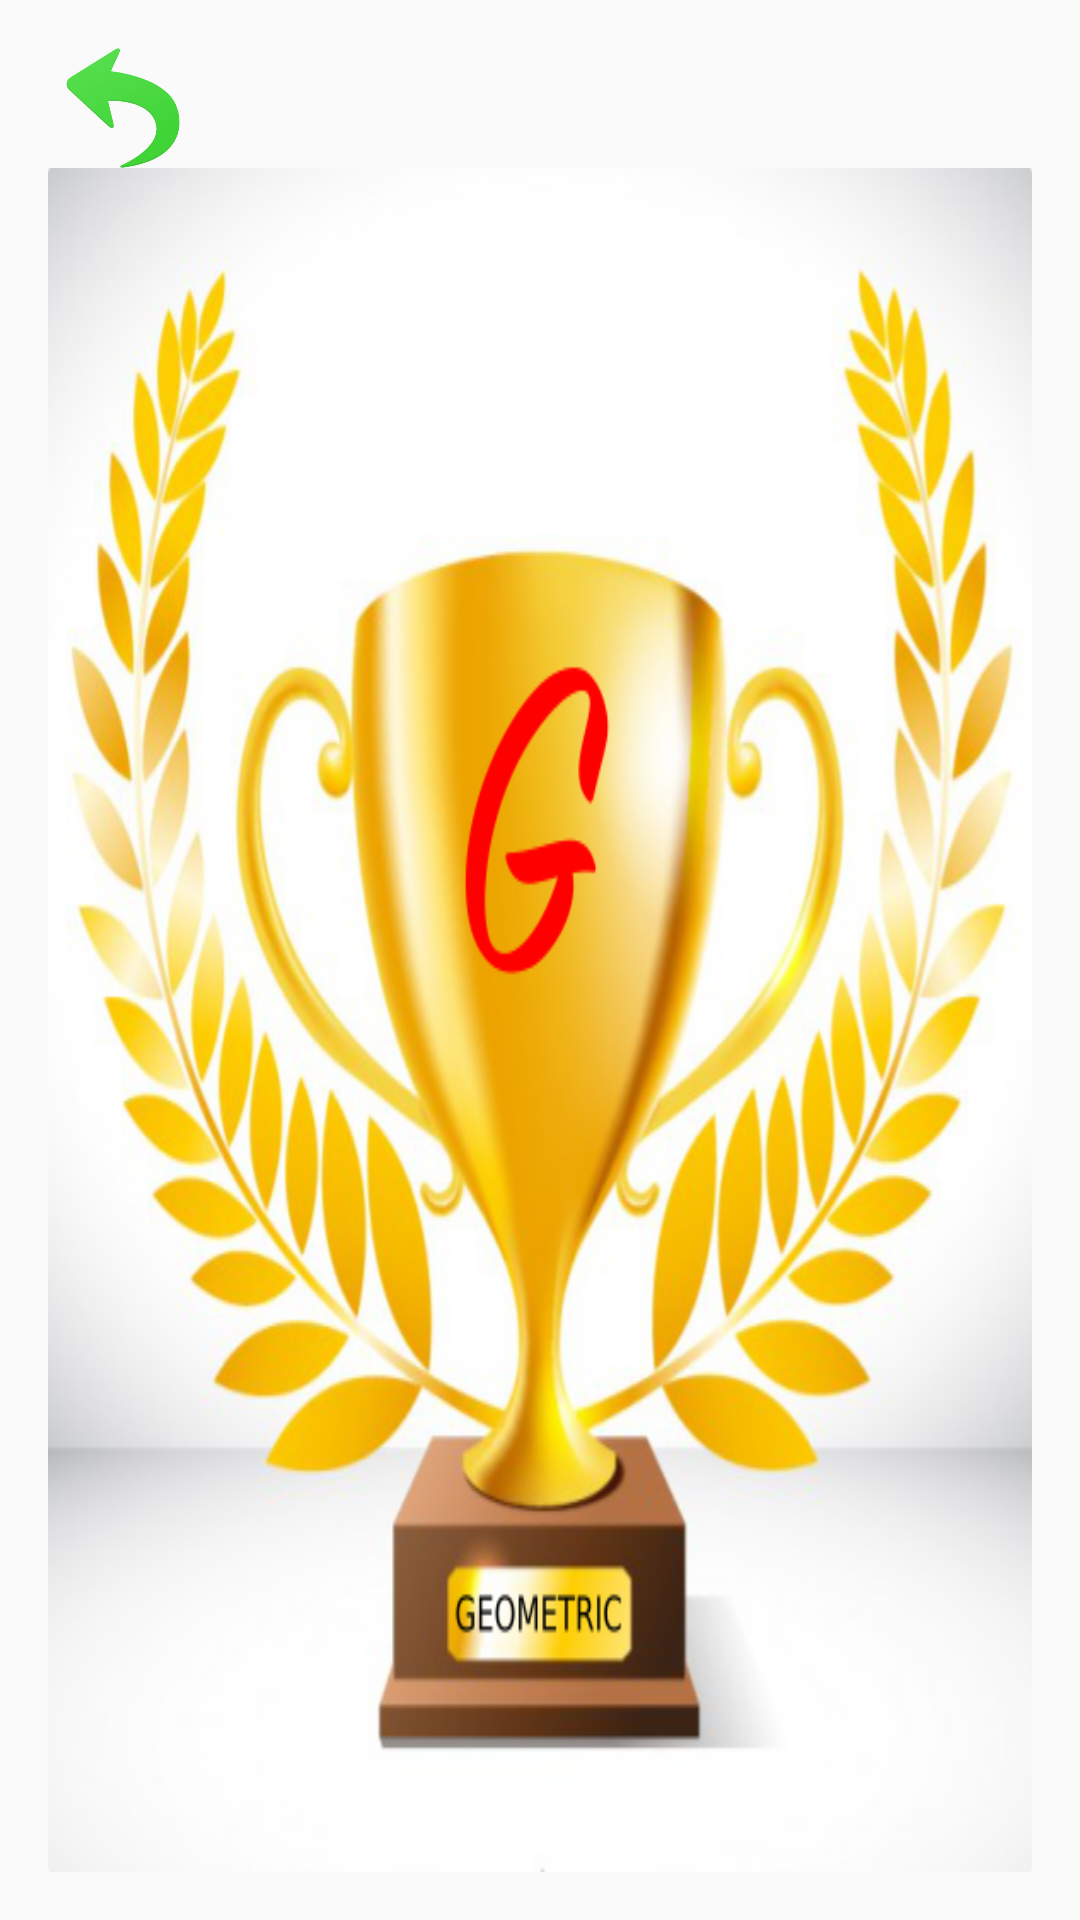

Icons on this 1080w x 1920h Android screen, each with its box as bbox=[x1, y1, x2, y2]:
voltar: bbox=[66, 48, 180, 168]
